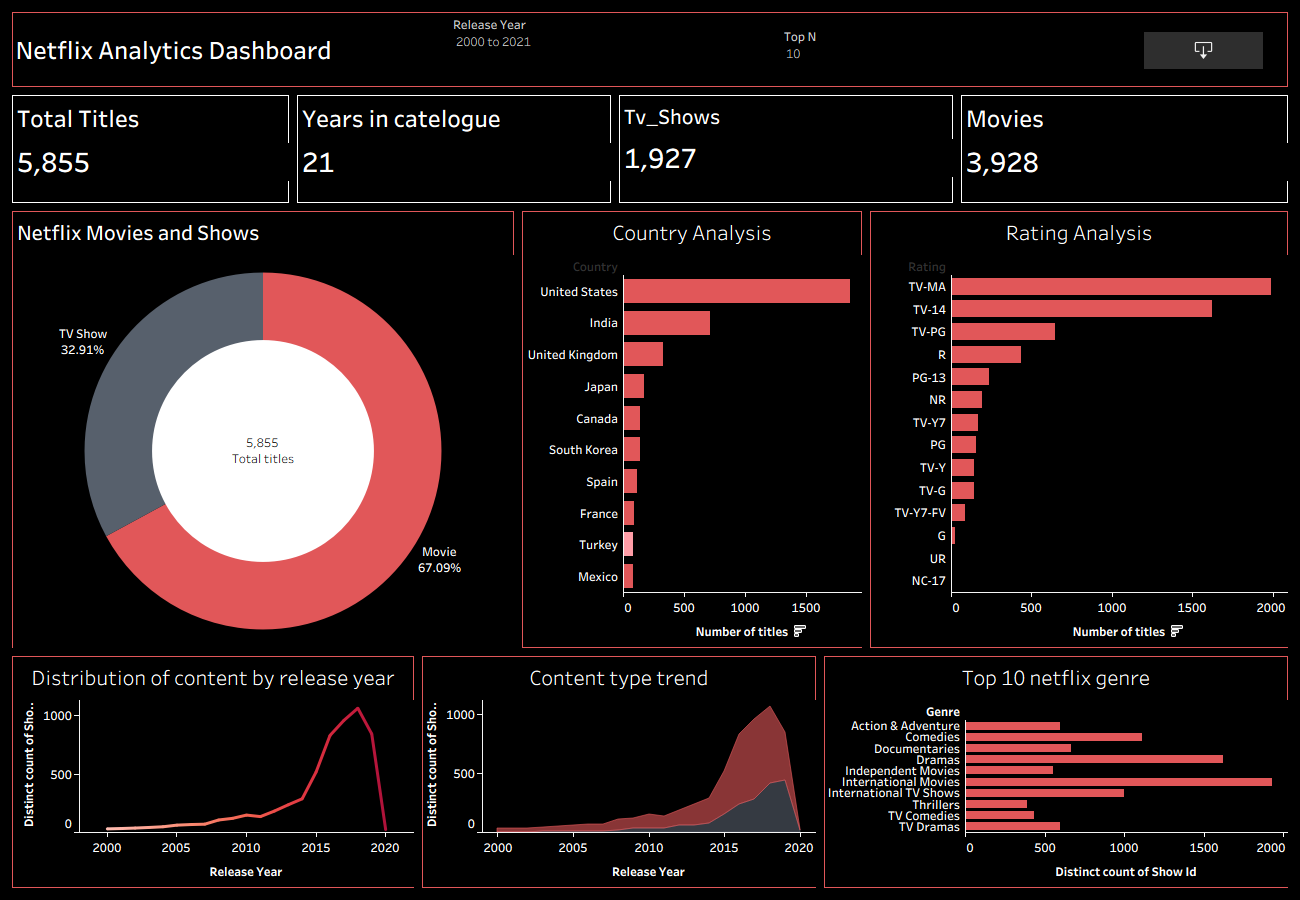

The dashboard page shown, as its layout file describes it:
{"tool":"tableau","page":{"name":"Dashboard 1","canvas":[1300,900],"ordinal":0},"visuals":[{"type":"title","box":[8,8,1284,83]},{"type":"filter","title":"Rating Analysis","param":"[federated.1vac39n1liaexo18v6yir1hmzvqi].[none:release_year:qk]","box":[453,15,184,54]},{"type":"parameter","param":"[Parameters].[Parameter 4844235410808834]","box":[784,27,160,44]},{"type":"dashboard-object","box":[1144,30,119,42]},{"type":"worksheet","title":"Sheet 1","mark":"Automatic","box":[8,91,285,116]},{"type":"worksheet","title":"total_release  years","mark":"Automatic","box":[293,91,322,116]},{"type":"worksheet","title":"total_tv","mark":"Automatic","box":[615,91,342,116]},{"type":"worksheet","title":"total_movies","mark":"Automatic","box":[957,91,335,116]},{"type":"worksheet","title":"content distribution","mark":"Pie","cols":["Calculation_4538296041680896","Calculation_4538296041680896"],"box":[8,207,509.7,445]},{"type":"worksheet","title":"country analysis","mark":"Automatic","rows":["country"],"cols":["show_id"],"box":[517.7,207,348.3,445]},{"type":"worksheet","title":"Rating Analysis","mark":"Bar","rows":["rating"],"cols":["show_id"],"box":[866,207,426,445]},{"type":"worksheet","title":"release year trend","mark":"Automatic","rows":["show_id"],"cols":["release_year"],"box":[8,652,410,240]},{"type":"worksheet","title":"content type trend","mark":"Area","rows":["show_id"],"cols":["release_year"],"box":[418,652,401.9,240]},{"type":"worksheet","title":"genre analysis","mark":"Bar","rows":["genre"],"cols":["show_id"],"box":[820,652,472,240]}]}

Visuals, with their boxes in screenshot pixels (x1, y1, x2, y2), scaled from the page's 1300x900 canvas onto the 1300x900 screenshot:
title: x1=8 y1=8 x2=1292 y2=91
"Rating Analysis" filter: x1=453 y1=15 x2=637 y2=69
parameter: x1=784 y1=27 x2=944 y2=71
dashboard-object: x1=1144 y1=30 x2=1263 y2=72
"Sheet 1" worksheet: x1=8 y1=91 x2=293 y2=207
"total_release  years" worksheet: x1=293 y1=91 x2=615 y2=207
"total_tv" worksheet: x1=615 y1=91 x2=957 y2=207
"total_movies" worksheet: x1=957 y1=91 x2=1292 y2=207
"content distribution" worksheet (Pie marks): x1=8 y1=207 x2=518 y2=652
"country analysis" worksheet: x1=518 y1=207 x2=866 y2=652
"Rating Analysis" worksheet (Bar marks): x1=866 y1=207 x2=1292 y2=652
"release year trend" worksheet: x1=8 y1=652 x2=418 y2=892
"content type trend" worksheet (Area marks): x1=418 y1=652 x2=820 y2=892
"genre analysis" worksheet (Bar marks): x1=820 y1=652 x2=1292 y2=892
